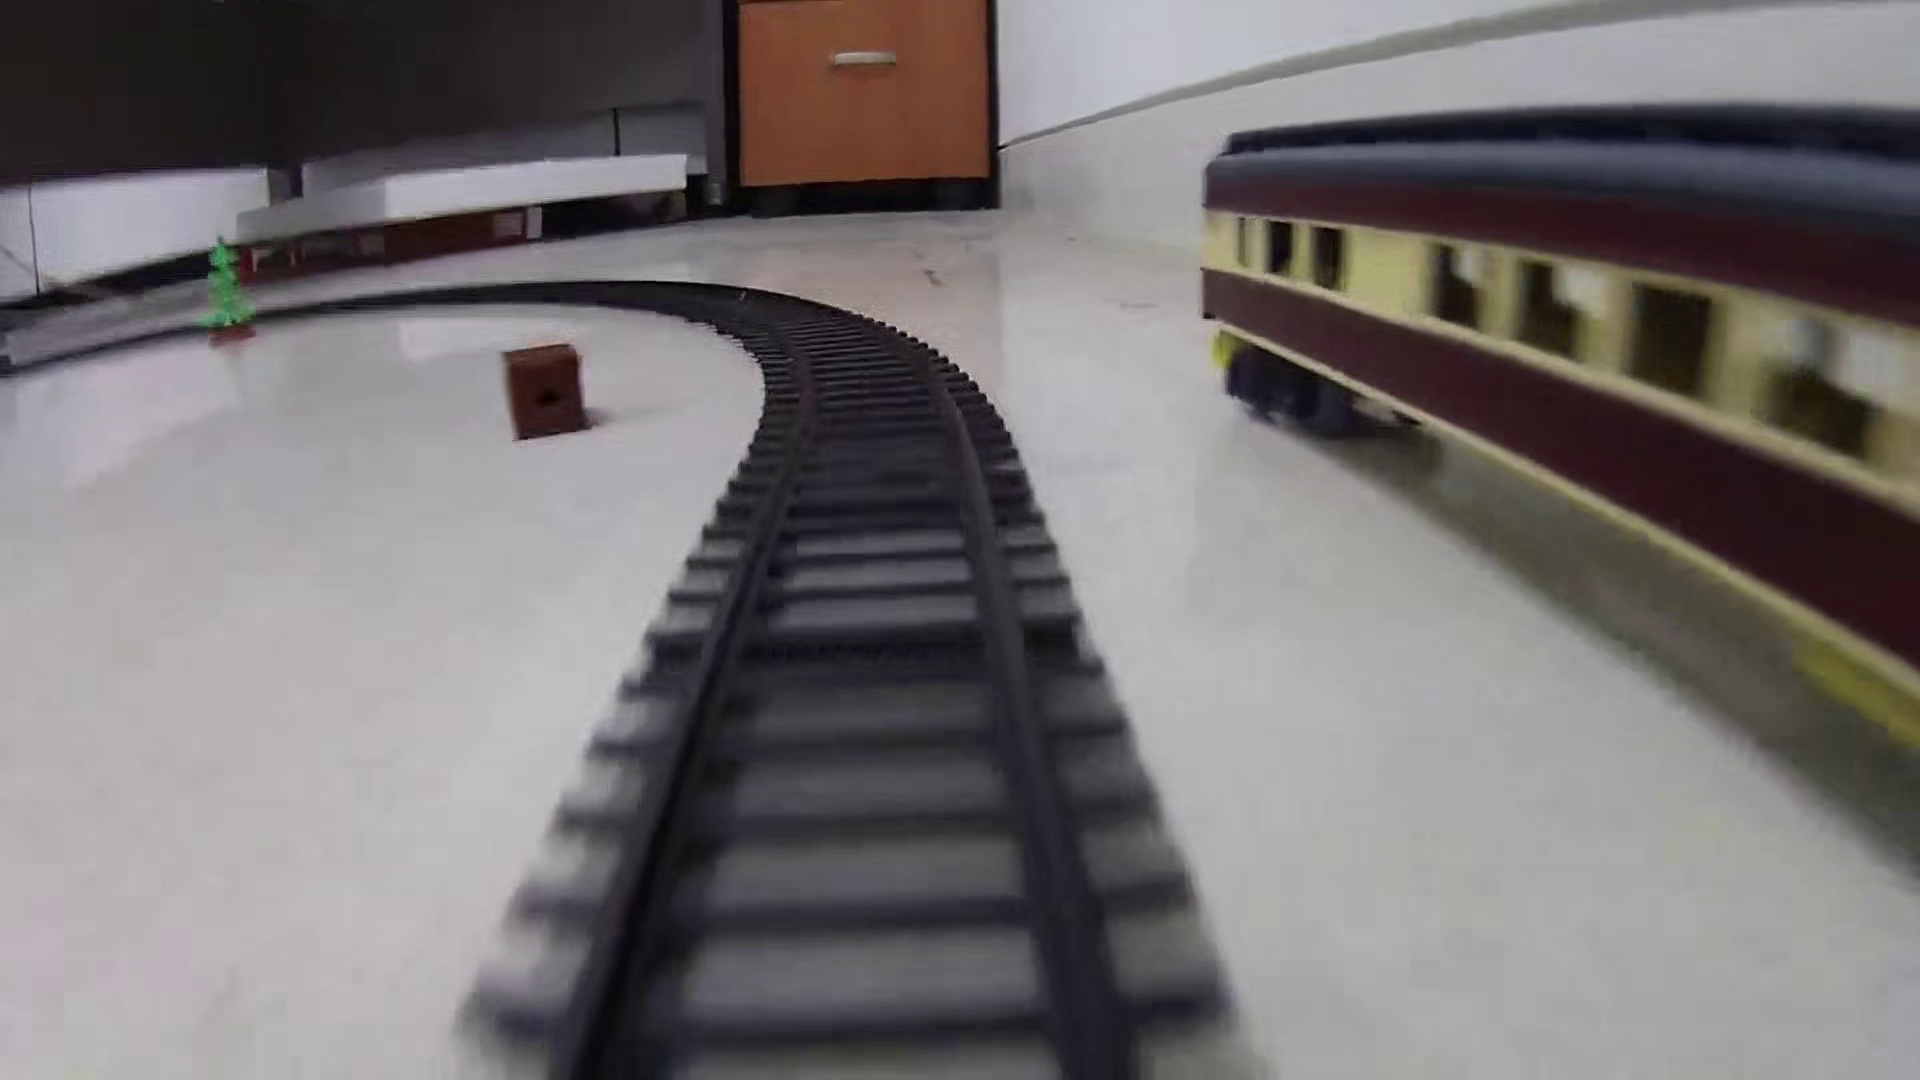box: (496, 344, 597, 444)
tree: (199, 231, 259, 349)
